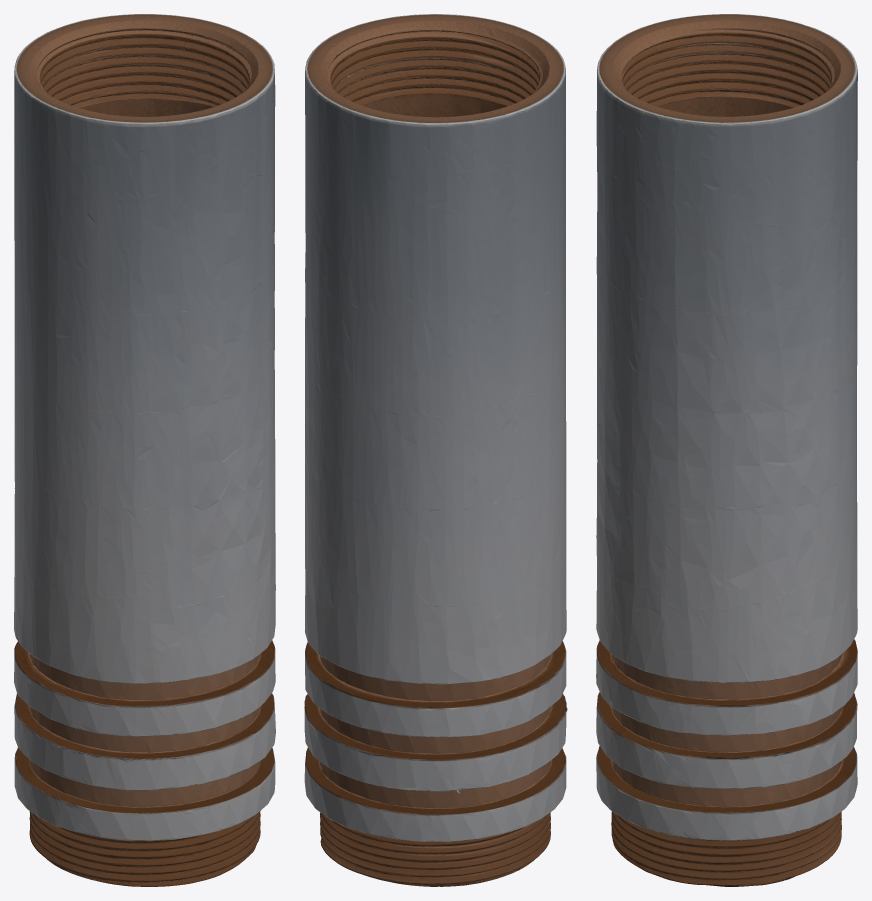
3 views of the same model, side by side, from view 1: azimuth 30°, elevation 25°; view 2: azimuth 150°, elevation 25°; view 3: azimuth 270°, elevation 25° (orthographic).
Parts seen in each view (by area): view 1: Meshy_AI_Chrome_Cylinder_with__0911034342_texture; view 2: Meshy_AI_Chrome_Cylinder_with__0911034342_texture; view 3: Meshy_AI_Chrome_Cylinder_with__0911034342_texture.
Boxes of the visible parts, x1,y1,x2,y2 form: Meshy_AI_Chrome_Cylinder_with__0911034342_texture: [14, 14, 275, 886]; Meshy_AI_Chrome_Cylinder_with__0911034342_texture: [304, 14, 567, 886]; Meshy_AI_Chrome_Cylinder_with__0911034342_texture: [596, 14, 857, 886].
Bounding box in the file's own units: 0.5872 × 1.9 × 0.5856.
Materials: 1 (1 with a texture image).
